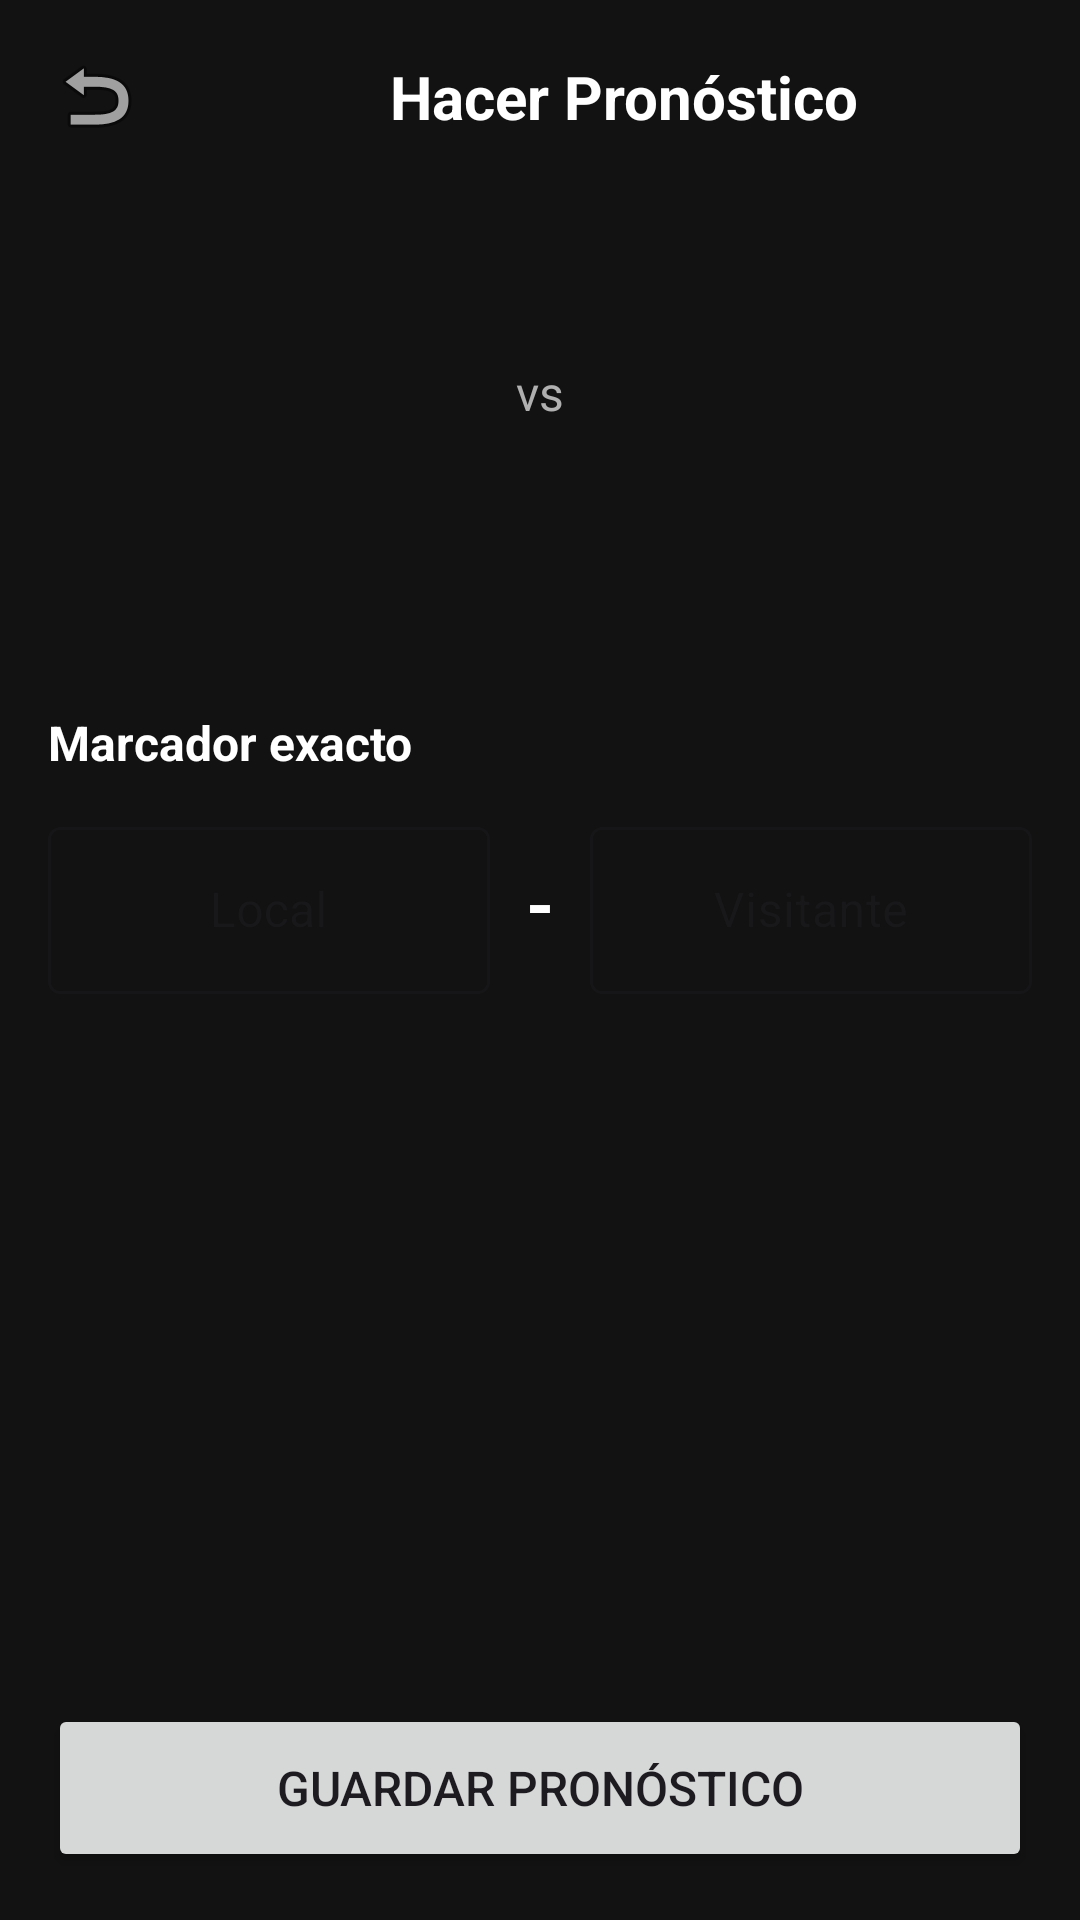

Icon bounding boxes for this 1080x1920 phone screenshot, format (x1,y1,x2,y2):
Atrás: (66,68,129,125)
